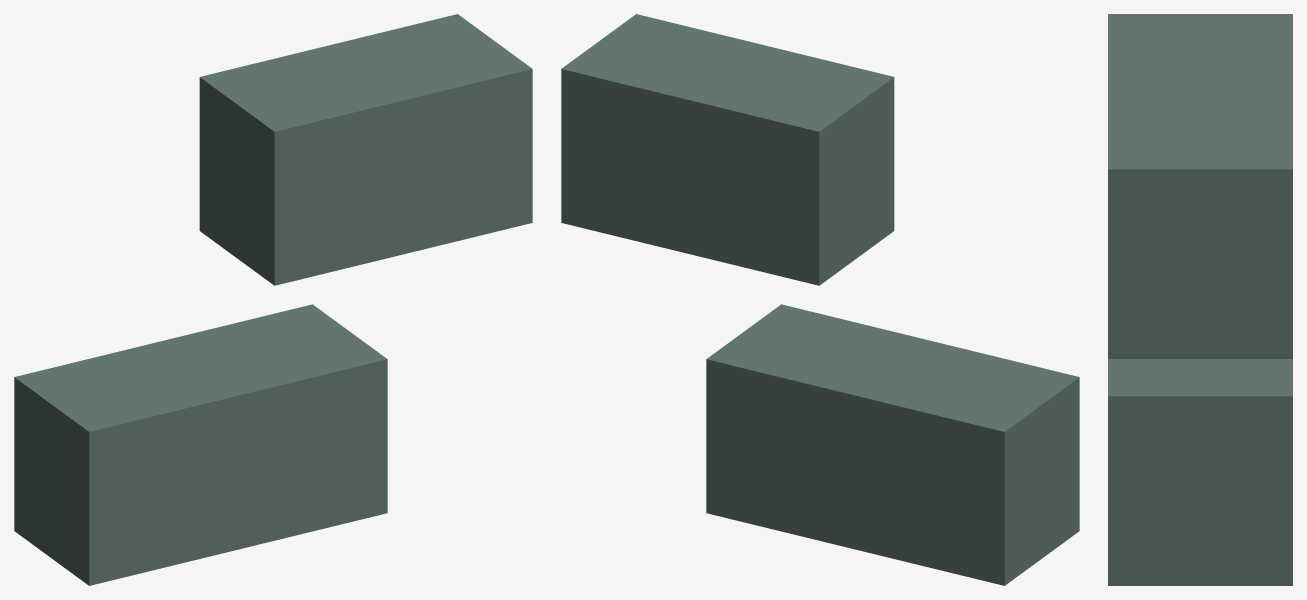
The model's file is BrickDetails1.fbx.
3 views of the same model, side by side, from view 1: azimuth 30°, elevation 25°; view 2: azimuth 150°, elevation 25°; view 3: azimuth 270°, elevation 25° (orthographic). The views are drawn at different scales.
Visible parts, largest first — view 1: BrickDetails1; view 2: BrickDetails1; view 3: BrickDetails1.
Part boxes in pixels (<box>): BrickDetails1: <box>14,14,532,585</box>; BrickDetails1: <box>561,14,1079,585</box>; BrickDetails1: <box>1108,14,1292,585</box>.
Size of the model in its own units: 39.94 by 35.19 by 11.7.
